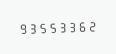five: (37, 20, 46, 34), (47, 20, 56, 34)
nine: (17, 21, 26, 35)
six: (77, 19, 86, 33)
three: (67, 19, 76, 33), (27, 21, 36, 34), (57, 20, 66, 33)
two: (87, 18, 96, 32)
